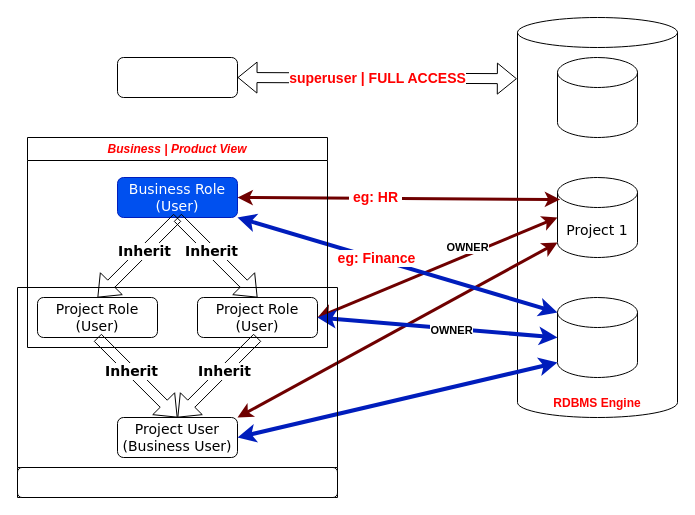
Image size: 695x515. Some labels were removed from this diagram. Each missing label, with the centre of its shape:
IT Project View: (x=177, y=482)
postgres: (x=597, y=97)
postgres (DBA): (x=177, y=77)
Project n: (x=597, y=337)
